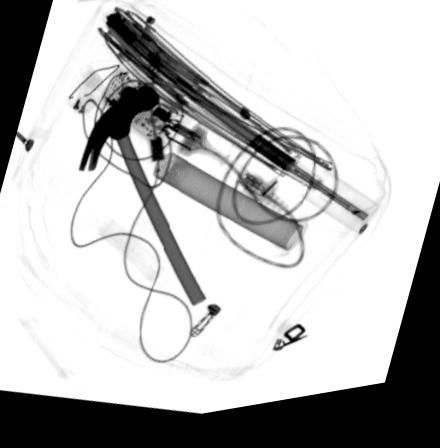Hammer: (77, 89, 207, 312)
